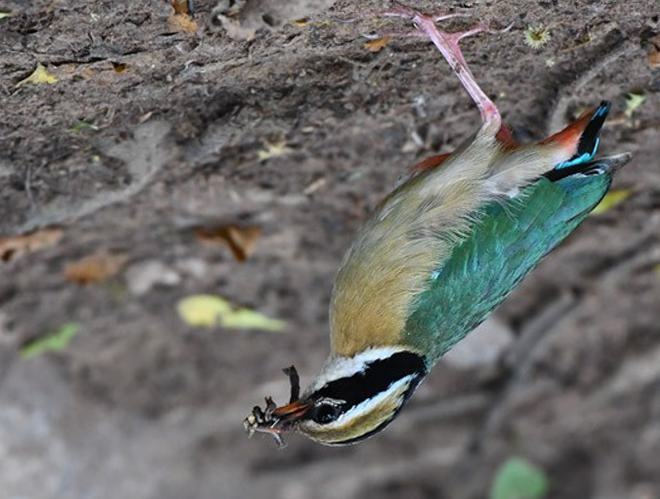pitta: (251, 49, 617, 468)
